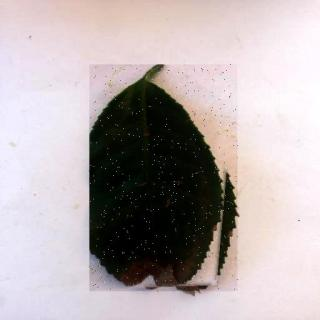Brown Blight: (91, 66, 240, 293)
